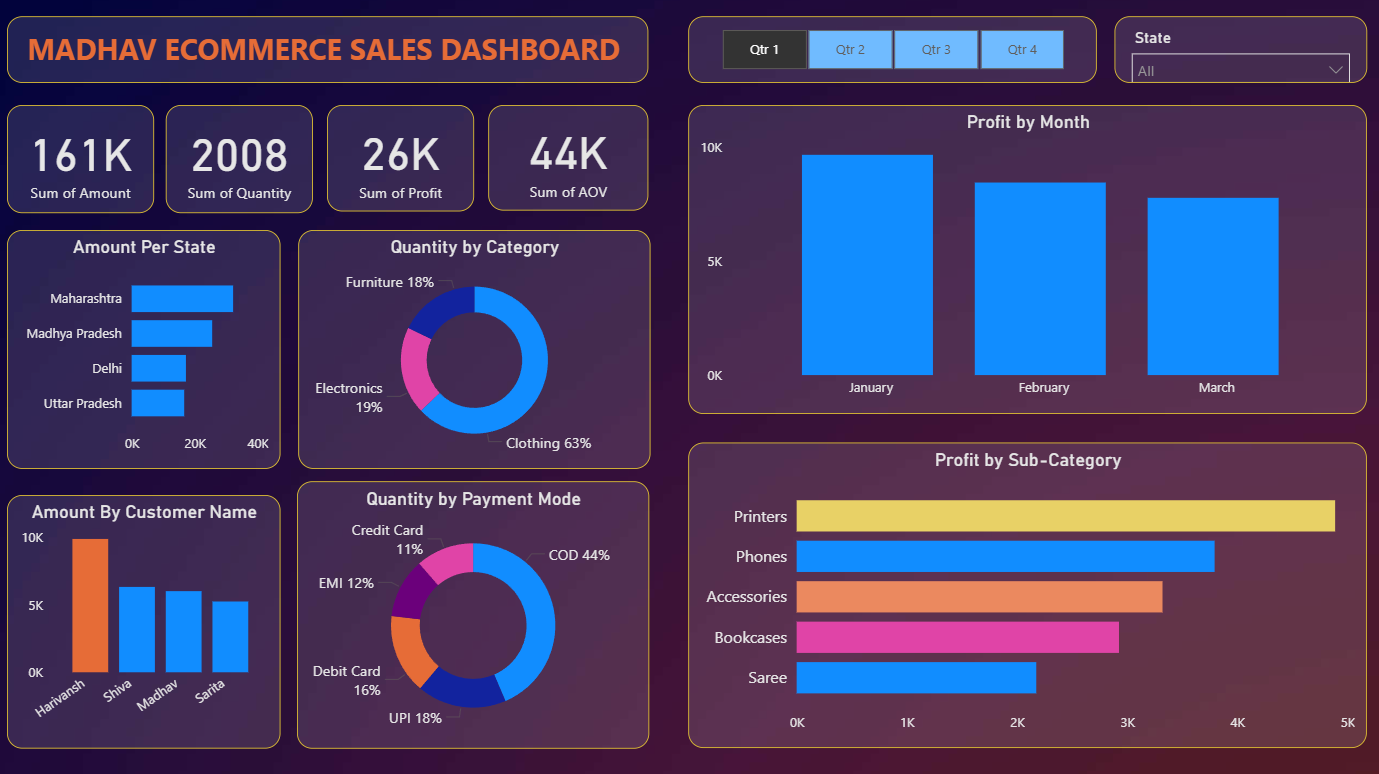

What the dashboard file says about the page in this screenshot:
{"tool":"powerbi","page":{"name":"Page 1","canvas":[1280,720],"ordinal":0},"visuals":[{"type":"textbox","box":[9.6,15.1,592.8,61.7],"z":0},{"type":"columnChart","title":"Profit by Month","fields":{"Y":["Sum(Details.Profit)"],"Category":["Orders.Order Date.Variation.Date Hierarchy.Month"]},"box":[639.5,97.4,627.1,285.4],"z":1000},{"type":"barChart","title":"Profit by Sub-Category","fields":{"Category":["Details.Sub-Category"],"Y":["Sum(Details.Profit)"]},"box":[639.5,408.9,627.1,282.7],"z":2000},{"type":"donutChart","title":"Quantity by Category","fields":{"Category":["Details.Category"],"Y":["Sum(Details.Quantity)"]},"box":[278.6,212.7,325.2,220.9],"z":3000},{"type":"donutChart","title":"Quantity by Payment Mode","fields":{"Category":["Details.PaymentMode"],"Y":["Sum(Details.Quantity)"]},"box":[277.2,444.6,325.2,247],"z":4000},{"type":"card","fields":{"Values":["Sum(Details.Amount)"]},"box":[9.6,97.4,135.8,100.2],"z":5000},{"type":"card","fields":{"Values":["Sum(Details.Quantity)"]},"box":[156.4,97.4,135.8,100.2],"z":6000},{"type":"card","fields":{"Values":["Sum(Details.Profit)"]},"box":[304.6,97.4,135.8,98.8],"z":7000},{"type":"card","fields":{"Values":["Sum(Details.AOV)"]},"box":[454.2,97.4,148.2,97.4],"z":8000},{"type":"barChart","title":"Amount Per State","fields":{"Category":["Orders.State"],"Y":["Sum(Details.Amount)"]},"box":[9.6,212.7,252.5,220.9],"z":9000},{"type":"columnChart","title":"Amount By Customer Name","fields":{"Category":["Orders.CustomerName"],"Y":["Sum(Details.Amount)"]},"box":[9.6,456.9,252.5,234.6],"z":10000},{"type":"slicer","fields":{"Values":["Orders.Order Date.Variation.Date Hierarchy.Quarter"]},"box":[639.5,15.1,377.4,61.7],"z":11000},{"type":"slicer","fields":{"Values":["Orders.State"]},"box":[1033.3,15.1,233.3,61.7],"z":12000}]}

Visuals, with their boxes in screenshot pixels (x1, y1, x2, y2), scaled from the page's 1280x720 canvas onto the 1379x774 screenshot:
textbox: <box>10,16,649,83</box>
"Profit by Month" columnChart: <box>689,105,1365,412</box>
"Profit by Sub-Category" barChart: <box>689,440,1365,743</box>
"Quantity by Category" donutChart: <box>300,229,651,466</box>
"Quantity by Payment Mode" donutChart: <box>299,478,649,743</box>
card - Sum(Details.Amount): <box>10,105,157,212</box>
card - Sum(Details.Quantity): <box>168,105,315,212</box>
card - Sum(Details.Profit): <box>328,105,474,211</box>
card - Sum(Details.AOV): <box>489,105,649,209</box>
"Amount Per State" barChart: <box>10,229,282,466</box>
"Amount By Customer Name" columnChart: <box>10,491,282,743</box>
slicer - Orders.Order Date.Variation.Date Hierarchy.Quarter: <box>689,16,1096,83</box>
slicer - Orders.State: <box>1113,16,1365,83</box>
